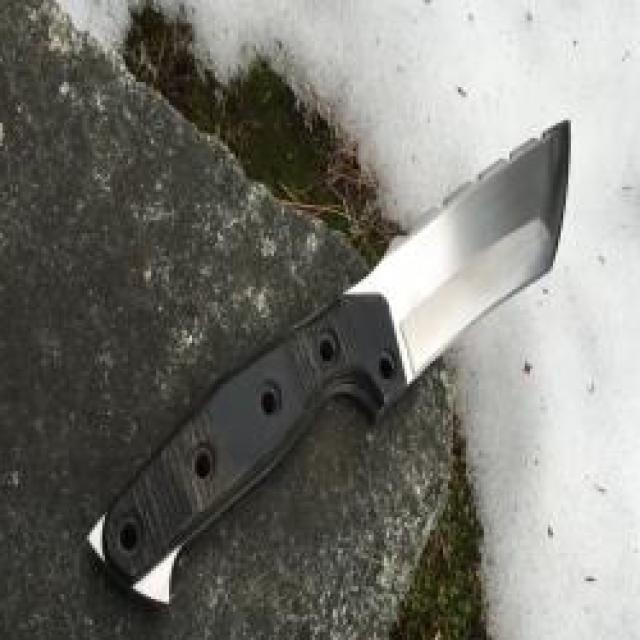knife: (322, 105, 588, 416)
